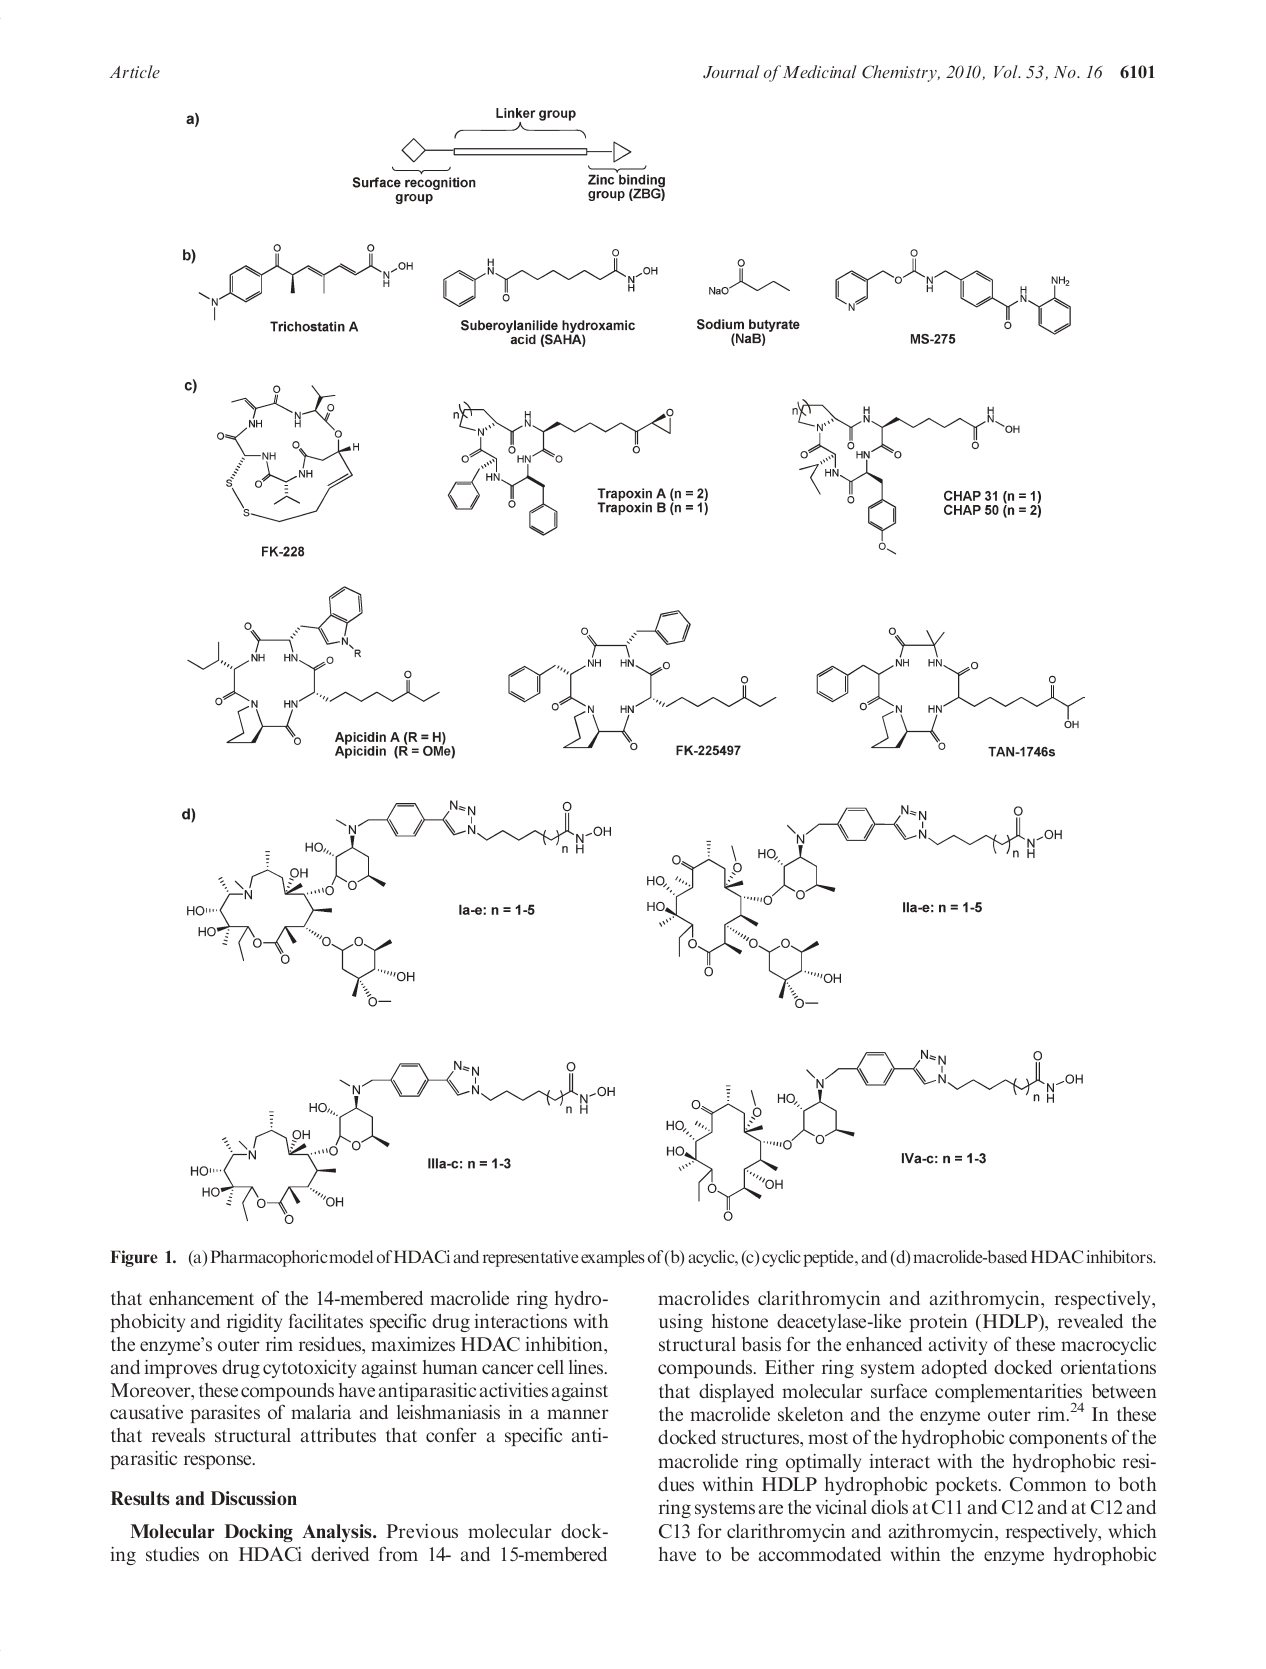exist_molecular: (184, 799, 613, 1008), (644, 805, 1067, 1009), (664, 1049, 1085, 1222), (188, 1060, 618, 1225), (188, 584, 445, 746), (505, 605, 778, 751), (789, 398, 1023, 557), (817, 625, 1088, 750), (445, 398, 680, 537), (834, 243, 1075, 335), (214, 382, 362, 523), (195, 239, 416, 324), (442, 247, 660, 309), (703, 255, 791, 297)
